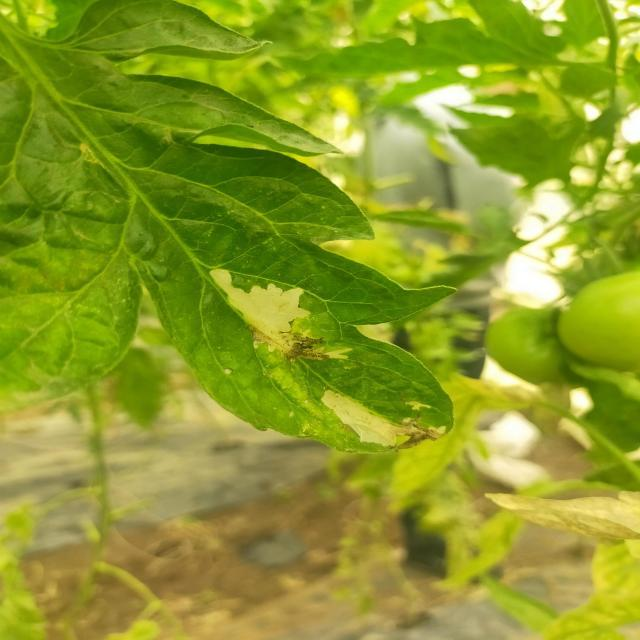Tuta absoluta: (194, 247, 320, 355), (313, 389, 432, 460)
